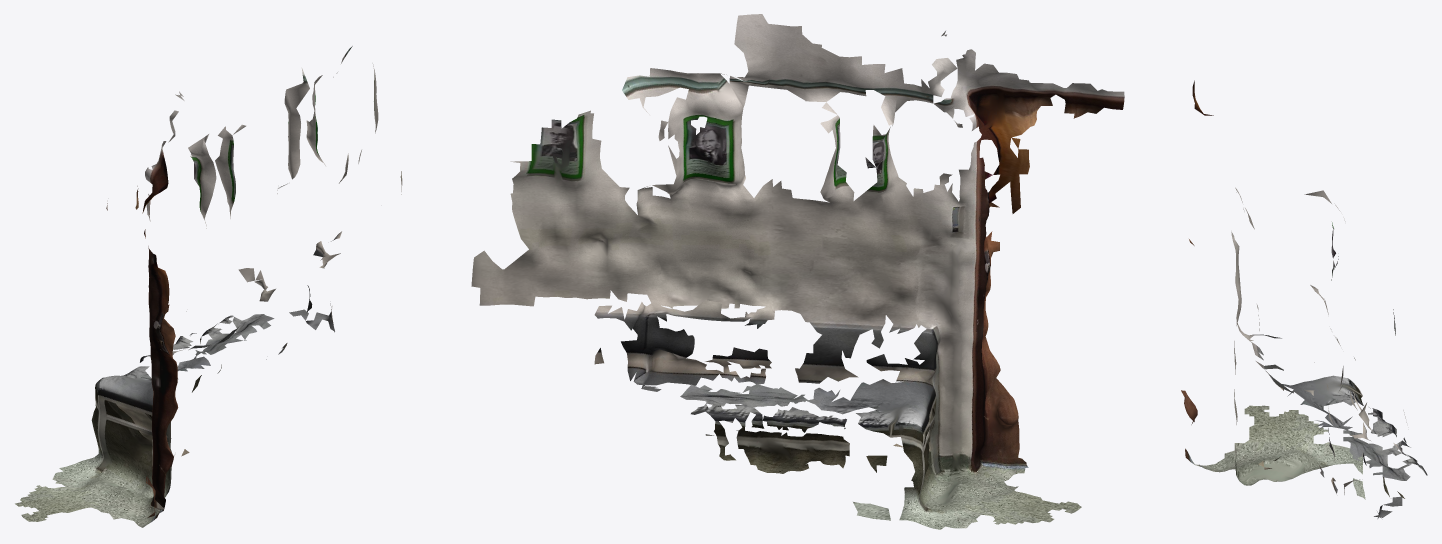
The model's file is 138926-A-tex.glb.
3 renders of one model, left to right at view 1: azimuth 30°, elevation 25°; view 2: azimuth 150°, elevation 25°; view 3: azimuth 270°, elevation 25°, orthographic. The views are drawn at different scales.
Parts seen in each view (by area): view 1: Node; view 2: Node; view 3: Node.
Part boxes in pixels (left/top/right/bottom): Node: left=15, top=46, right=402, bottom=527; Node: left=471, top=14, right=1124, bottom=529; Node: left=1181, top=80, right=1427, bottom=518.
Bounding box in the file's own units: 3.04 × 2.51 × 1.33.
Materials: 1 (1 with a texture image).
